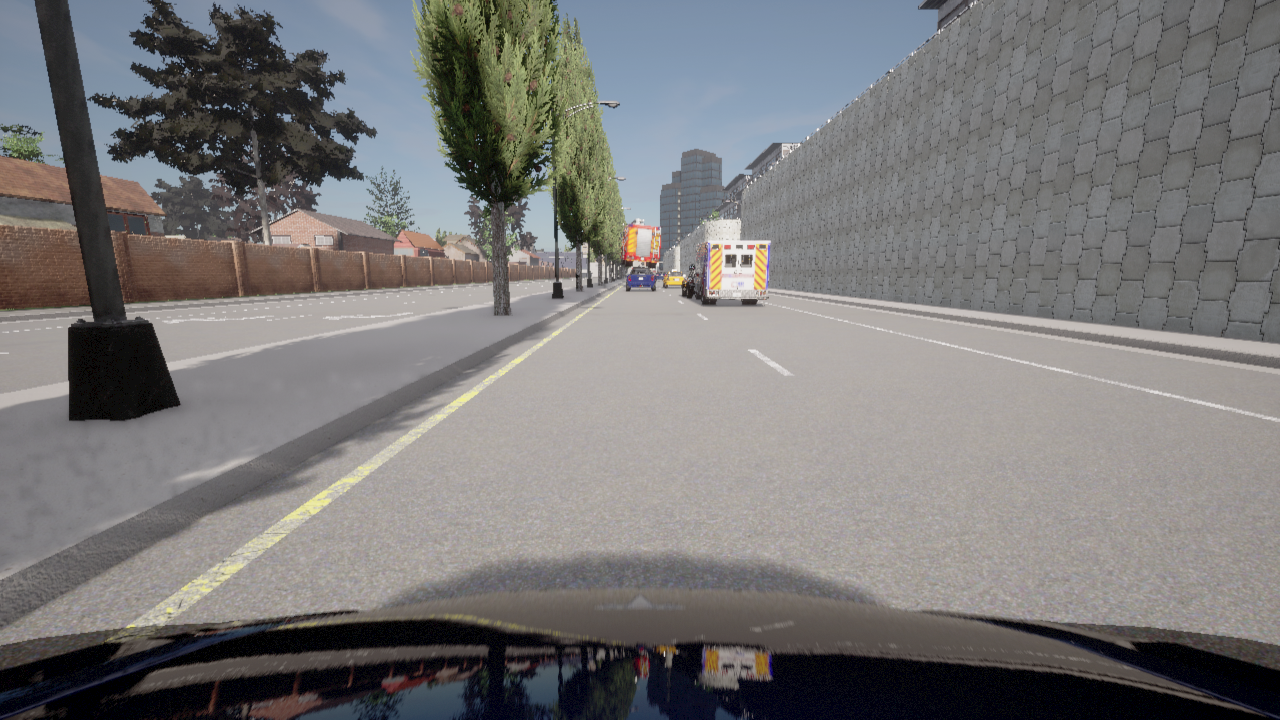cyclist: (0, 588, 1279, 719), (689, 241, 770, 304), (619, 219, 660, 268), (626, 267, 655, 290), (681, 270, 694, 298), (663, 270, 683, 288), (655, 270, 666, 280)
